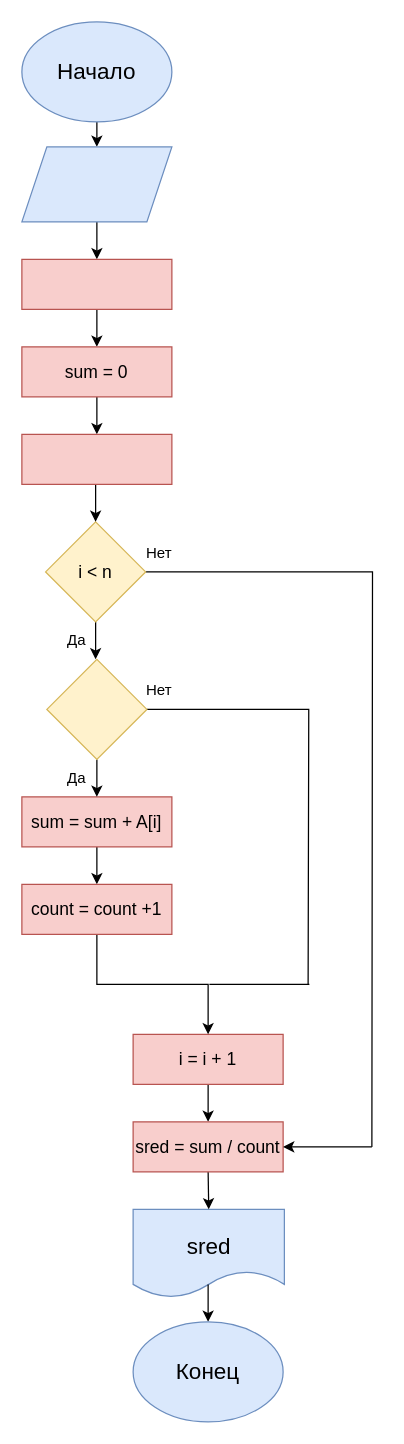
The diagram is 404 pixels wide and 1444 high, and some of its shapes have lost their labels. The shapes that lost their labels are listed below. From the top down, each one's box as (x1, y1, x2, y2) in pixels, then its label:
(21, 146, 172, 222): A, n
(21, 258, 172, 309): i = 1
(21, 433, 172, 484): count = 0
(46, 658, 147, 759): i % 2 == 0
